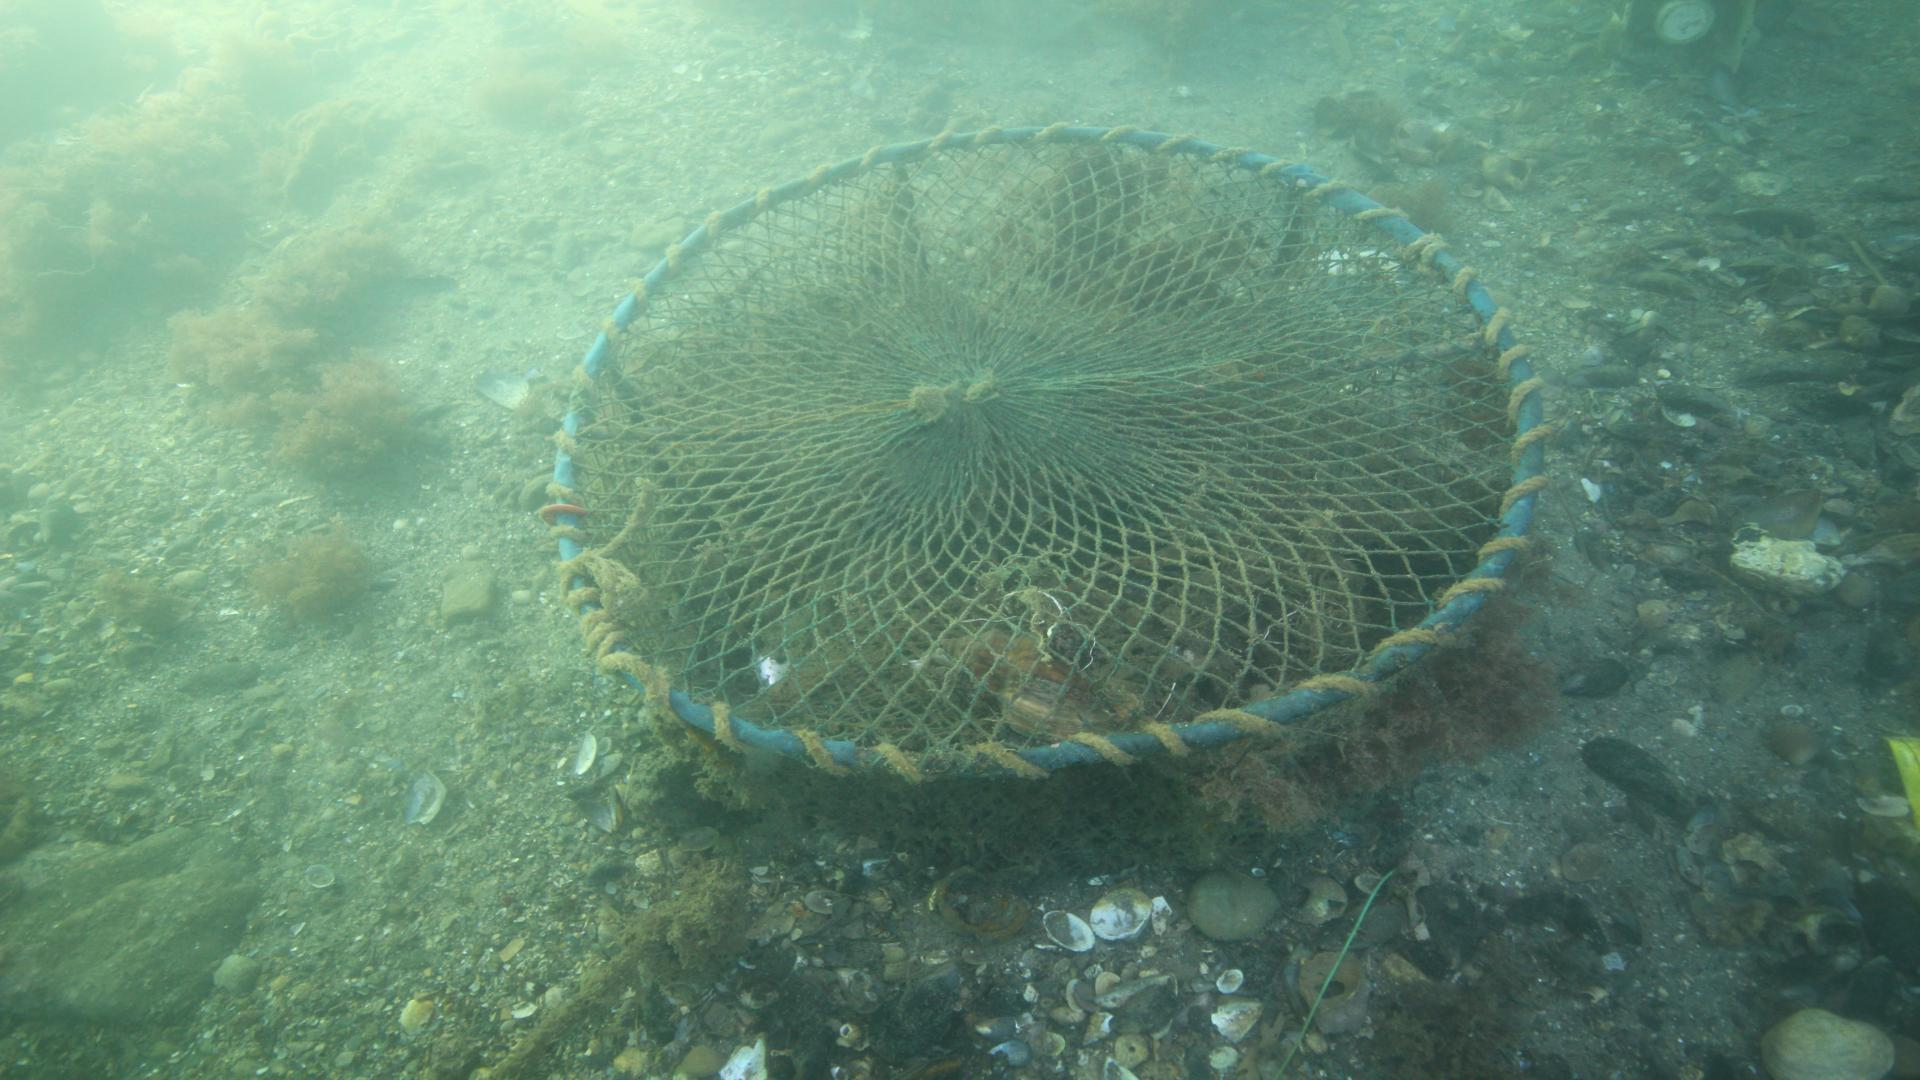circular fish trap: (535, 117, 1555, 894)
